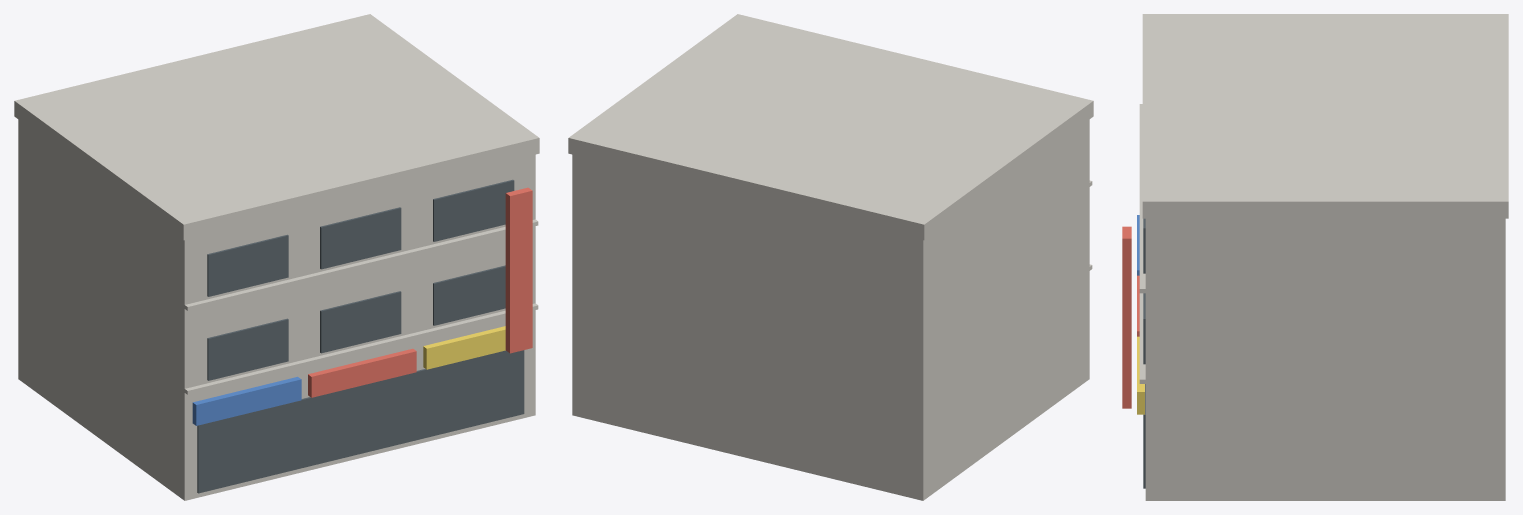
The model's file is commerce.glb.
The picture shows the model from 3 angles, left to right: view 1: azimuth 30°, elevation 25°; view 2: azimuth 150°, elevation 25°; view 3: azimuth 270°, elevation 25°; orthographic projection. The views are drawn at different scales.
Parts seen in each view (by area): view 1: Cube, Cube.001, Cube.003, Cube.002, Cube.004; view 2: Cube; view 3: Cube, Cube.003, Cube.001.
Part boxes in pixels (box(x1,y1,x2,y2)): Cube: box(14, 14, 539, 500); Cube.001: box(197, 179, 524, 493); Cube.003: box(308, 187, 532, 397); Cube.002: box(192, 376, 301, 425); Cube.004: box(423, 326, 505, 369); Cube: box(568, 14, 1093, 500); Cube: box(1139, 14, 1508, 500); Cube.003: box(1122, 226, 1139, 408); Cube.001: box(1143, 218, 1145, 488).
Size of the model in its own units: 14.2 by 10.6 by 12.35.
